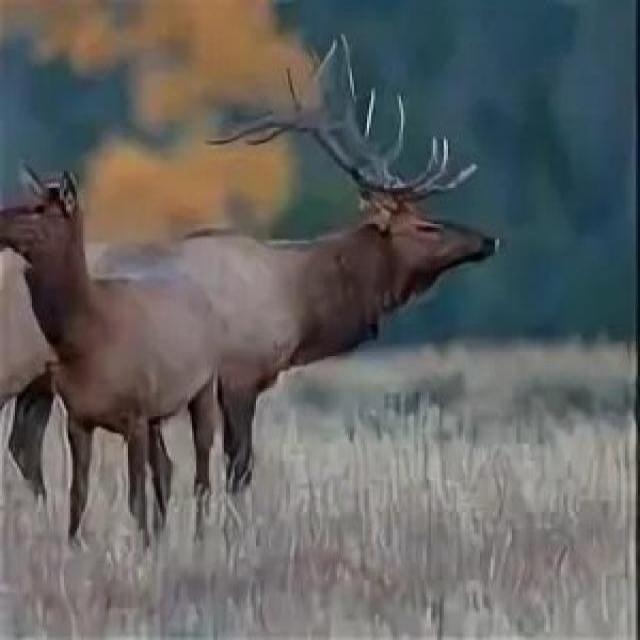deer: (0, 118, 477, 413), (0, 182, 235, 517)
